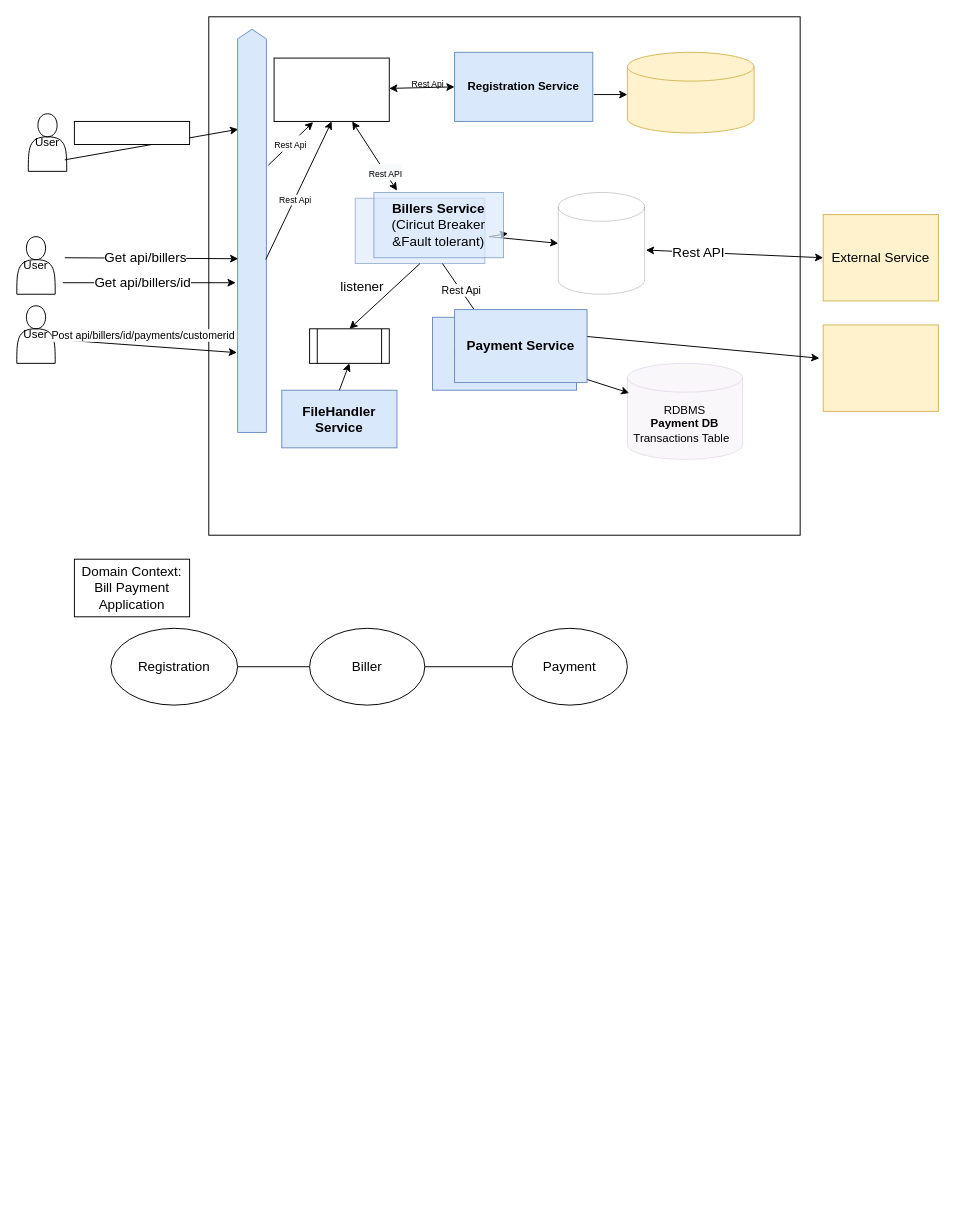
Some shapes in this 955 by 1221 pixel diagram are drawn without their labels. Each missing label, with the box of its shape:
A P I G A T E W A Y: (237, 28, 266, 432)
Distributed Cache Hazelcast: (557, 192, 645, 294)
Eureka Service Discovery: (273, 57, 389, 121)
External Service PayBiller Service: (822, 324, 938, 411)
Post api/users/register: (73, 120, 190, 144)
Queue: (309, 328, 389, 363)
RDBMS Registration DB Customer Table CustomerAccount Table: (626, 51, 754, 133)
